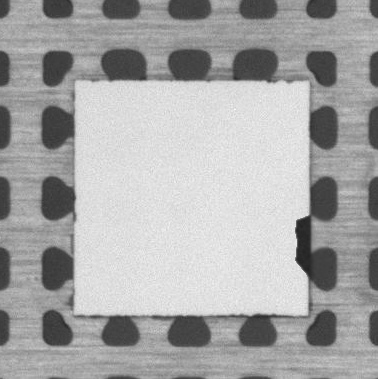DIE_BROKEN: (292, 211, 313, 275)
